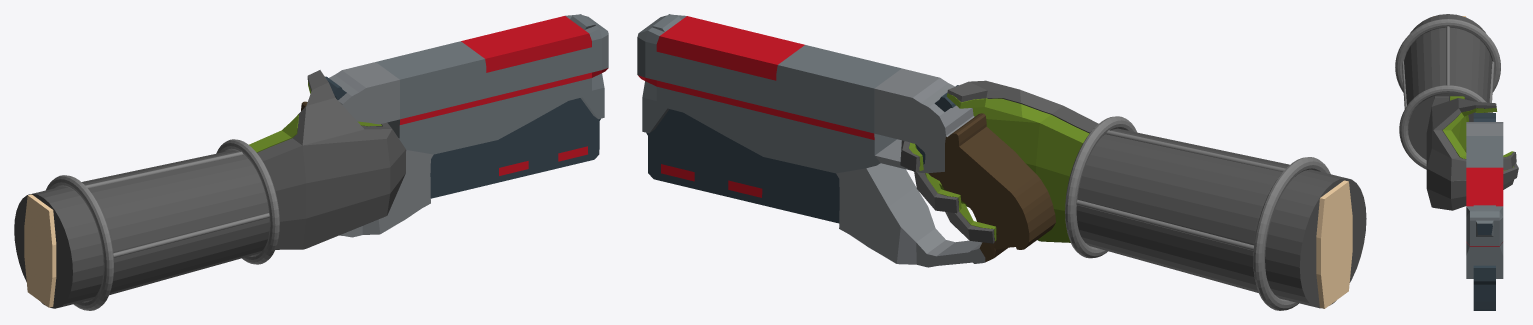
Rendered from Hand.fbx.
3 renders of one model, left to right at view 1: azimuth 30°, elevation 25°; view 2: azimuth 150°, elevation 25°; view 3: azimuth 270°, elevation 25°, orthographic. The views are drawn at different scales.
Visible parts, largest first — view 1: Pistol, Suit, Hand-Good, Suit Cosmetic; view 2: Pistol, Suit, Hand-Good, Suit Cosmetic; view 3: Pistol, Suit, Hand-Good, Suit Cosmetic.
Boxes of the visible parts, x1=… form: Pistol: x1=301, y1=14, x2=608, y2=237; Suit: x1=14, y1=150, x2=269, y2=308; Hand-Good: x1=24, y1=70, x2=405, y2=307; Suit Cosmetic: x1=46, y1=139, x2=279, y2=310; Pistol: x1=637, y1=14, x2=1055, y2=267; Suit: x1=1076, y1=128, x2=1366, y2=308; Hand-Good: x1=900, y1=80, x2=1352, y2=308; Suit Cosmetic: x1=1065, y1=116, x2=1330, y2=310; Pistol: x1=1466, y1=113, x2=1503, y2=310; Suit: x1=1404, y1=14, x2=1492, y2=159; Hand-Good: x1=1426, y1=16, x2=1518, y2=210; Suit Cosmetic: x1=1395, y1=19, x2=1500, y2=169.
Size of the model in its own units: 1393 by 364 by 334.
4 materials, 4 textured.
